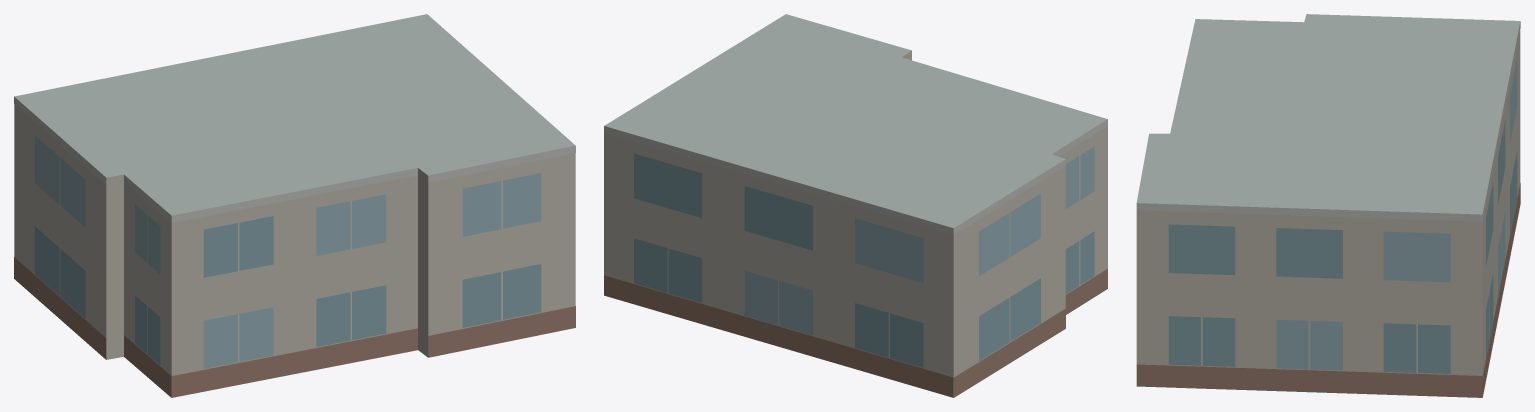
The model's file is survey-upis-33020436.glb.
3 views of the same model, side by side, from view 1: azimuth 30°, elevation 25°; view 2: azimuth 150°, elevation 25°; view 3: azimuth 270°, elevation 25° (orthographic). The views are drawn at different scales.
Parts seen in each view (by area): view 1: survey-upis-33020436.tmp; view 2: survey-upis-33020436.tmp; view 3: survey-upis-33020436.tmp.
Part boxes in pixels (<box>): survey-upis-33020436.tmp: <box>14,14,575,397</box>; survey-upis-33020436.tmp: <box>604,14,1107,397</box>; survey-upis-33020436.tmp: <box>1136,14,1520,397</box>.
Bounding box in the file's own units: 14.32 × 6.1 × 11.58.
